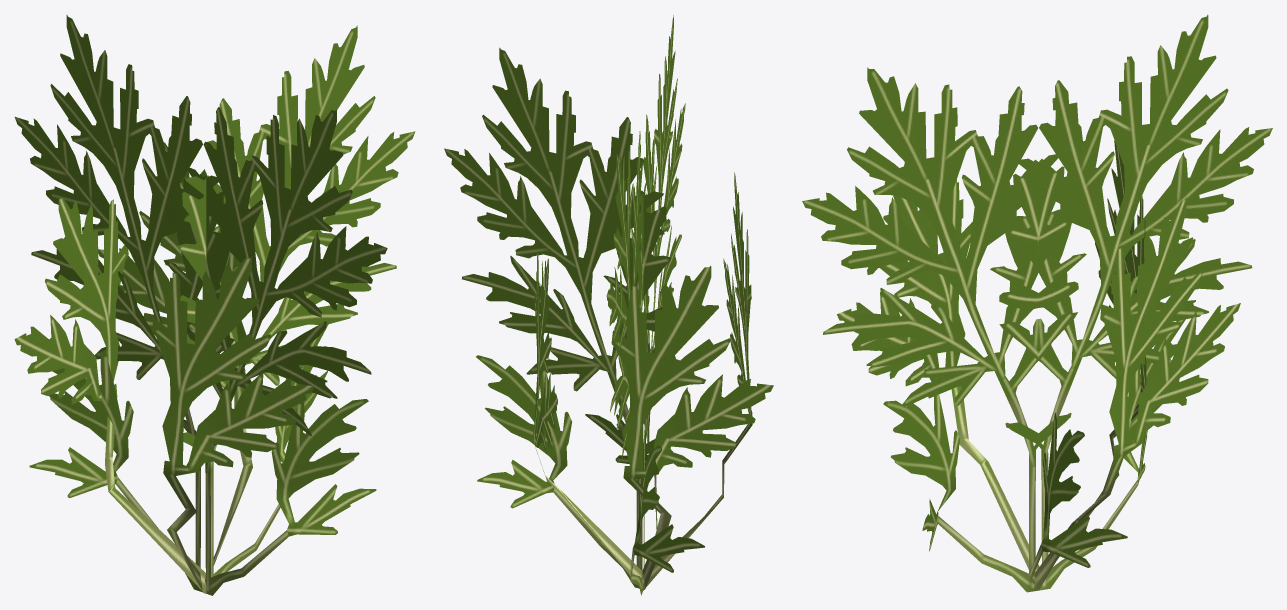
File: spice.glb
The picture shows the model from 3 angles, left to right: view 1: azimuth 30°, elevation 25°; view 2: azimuth 150°, elevation 25°; view 3: azimuth 270°, elevation 25°; orthographic projection. The views are drawn at different scales.
Visible parts, largest first — view 1: wormwood; view 2: wormwood; view 3: wormwood.
Boxes of the visible parts, x1=… form: wormwood: x1=14, y1=15, x2=415, y2=595; wormwood: x1=444, y1=15, x2=773, y2=595; wormwood: x1=802, y1=14, x2=1272, y2=592.
Bounding box in the file's own units: 0.4309 × 0.5864 × 0.4557.
1 material, 1 textured.
